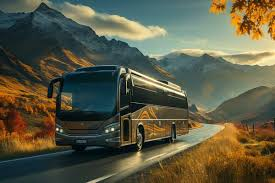bus: (47, 65, 190, 153)
